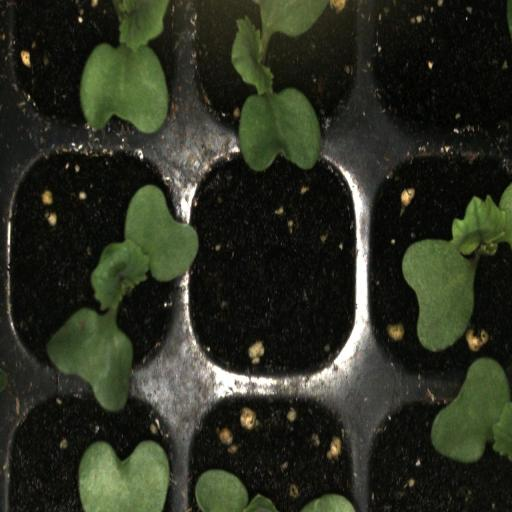noseedling: (180, 146, 361, 377), (364, 0, 512, 144)
seedling: (0, 150, 185, 379), (363, 144, 512, 382), (185, 0, 366, 146), (9, 0, 184, 147)
